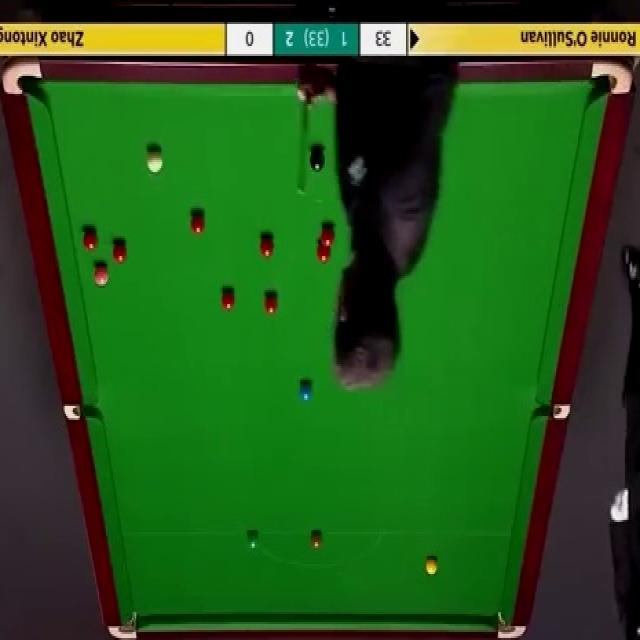black-ball: (309, 148, 326, 173)
blue-ball: (299, 379, 312, 401)
brown-ball: (310, 530, 322, 547)
green-ball: (247, 530, 258, 550)
pink-ball: (92, 262, 109, 287)
red-ball: (82, 227, 99, 253), (220, 288, 235, 313), (190, 213, 207, 234), (259, 233, 273, 258), (263, 290, 277, 314), (320, 227, 336, 247), (112, 241, 127, 262), (316, 243, 332, 261)
white-ball: (146, 147, 164, 176)
yellow-ball: (424, 554, 438, 574)
